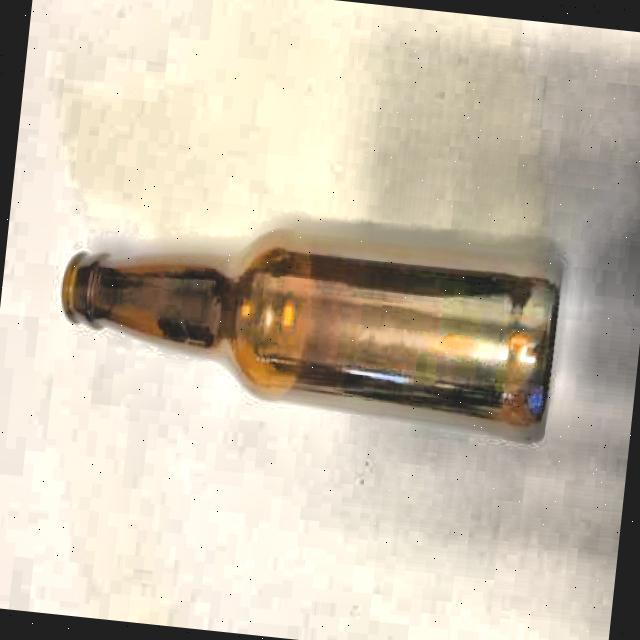glass: (49, 217, 567, 443)
